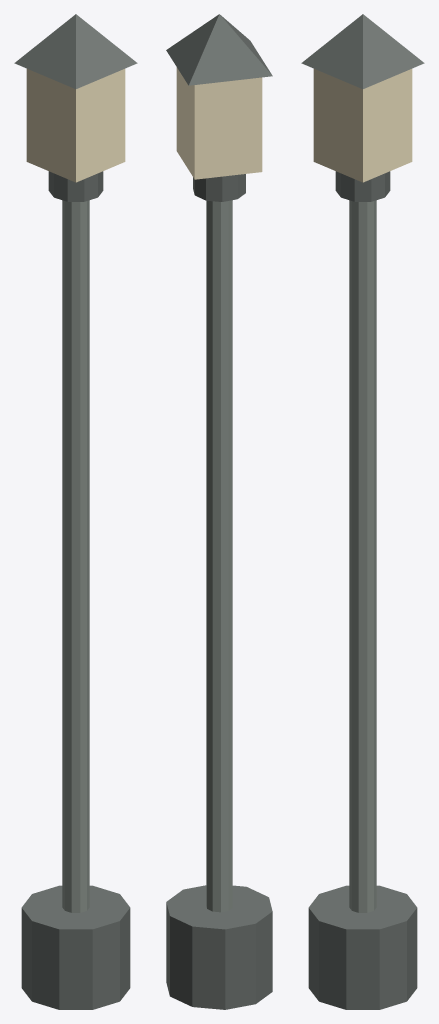
File: street-lamp-lod0.glb
3 views of the same model, side by side, from view 1: azimuth 90°, elevation 25°; view 2: azimuth 150°, elevation 25°; view 3: azimuth 270°, elevation 25° (orthographic).
Visible parts, largest first — view 1: post, base, lantern, cap, collar; view 2: post, base, lantern, cap, collar; view 3: post, base, lantern, cap, collar.
Boxes of the visible parts, x1,y1,x2,y2 form: post: [62, 200, 89, 912]; base: [21, 885, 130, 1009]; lantern: [26, 69, 125, 182]; cap: [14, 14, 137, 88]; collar: [48, 171, 103, 201]; post: [206, 200, 232, 912]; base: [166, 885, 272, 1009]; lantern: [176, 67, 262, 179]; cap: [166, 14, 272, 85]; collar: [193, 174, 245, 201]; post: [349, 200, 376, 912]; base: [308, 885, 417, 1009]; lantern: [313, 69, 412, 182]; cap: [301, 14, 424, 88]; collar: [335, 171, 390, 201].
Size of the model in its own units: 0.5 by 4.35 by 0.5.
